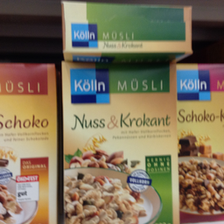cereal: (61, 60, 180, 223), (1, 62, 57, 222), (175, 63, 223, 223)
